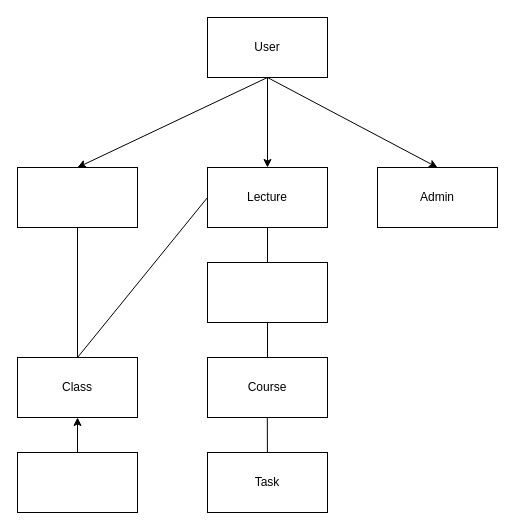
This 515x530 diagram has some shape labels left out. Here are the shapes that lost their labels. From the top down, the centre of each, then its label:
At [77,197]: "Student".
At [267,292]: "Subject".
At [77,482]: "School".
